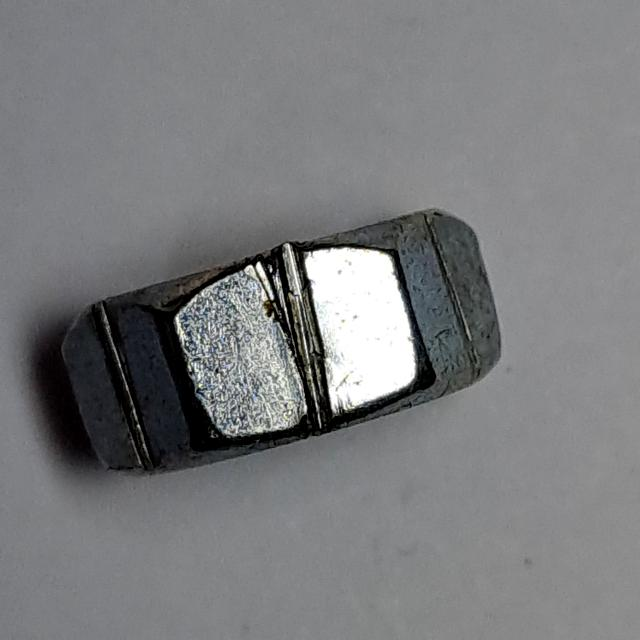Side_Scratches: (53, 200, 516, 486)
